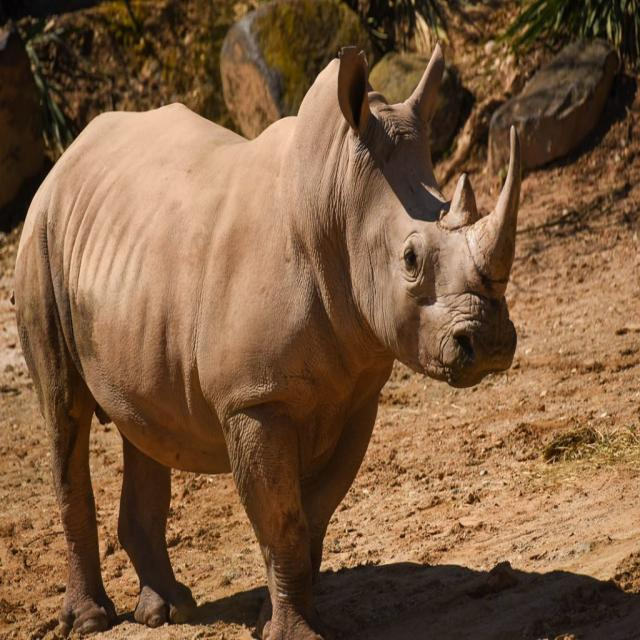Rinoceros: (11, 29, 527, 640)
